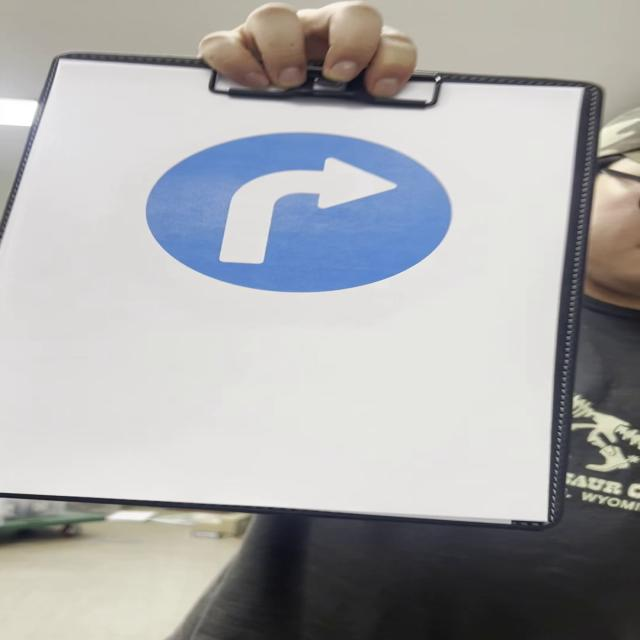right: (143, 131, 452, 298)
